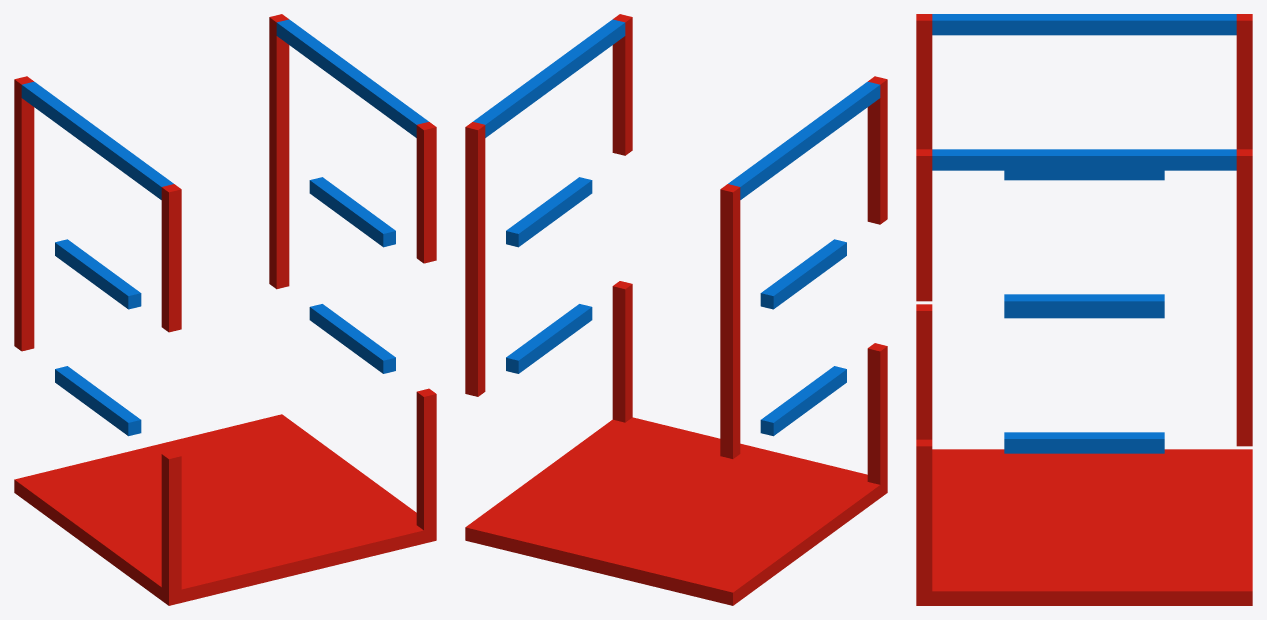
Rendered from level_1_real.fbx.
3 views of the same model, side by side, from view 1: azimuth 30°, elevation 25°; view 2: azimuth 150°, elevation 25°; view 3: azimuth 270°, elevation 25° (orthographic). The views are drawn at different scales.
Visible parts, largest first — view 1: 立方体.020; view 2: 立方体.020; view 3: 立方体.020.
Part boxes in pixels (x1,y1,x2,y2): 立方体.020: (14, 14, 436, 605); 立方体.020: (465, 14, 887, 605); 立方体.020: (916, 14, 1252, 605).
Bounding box in the file's own units: 420 × 620 × 420.
